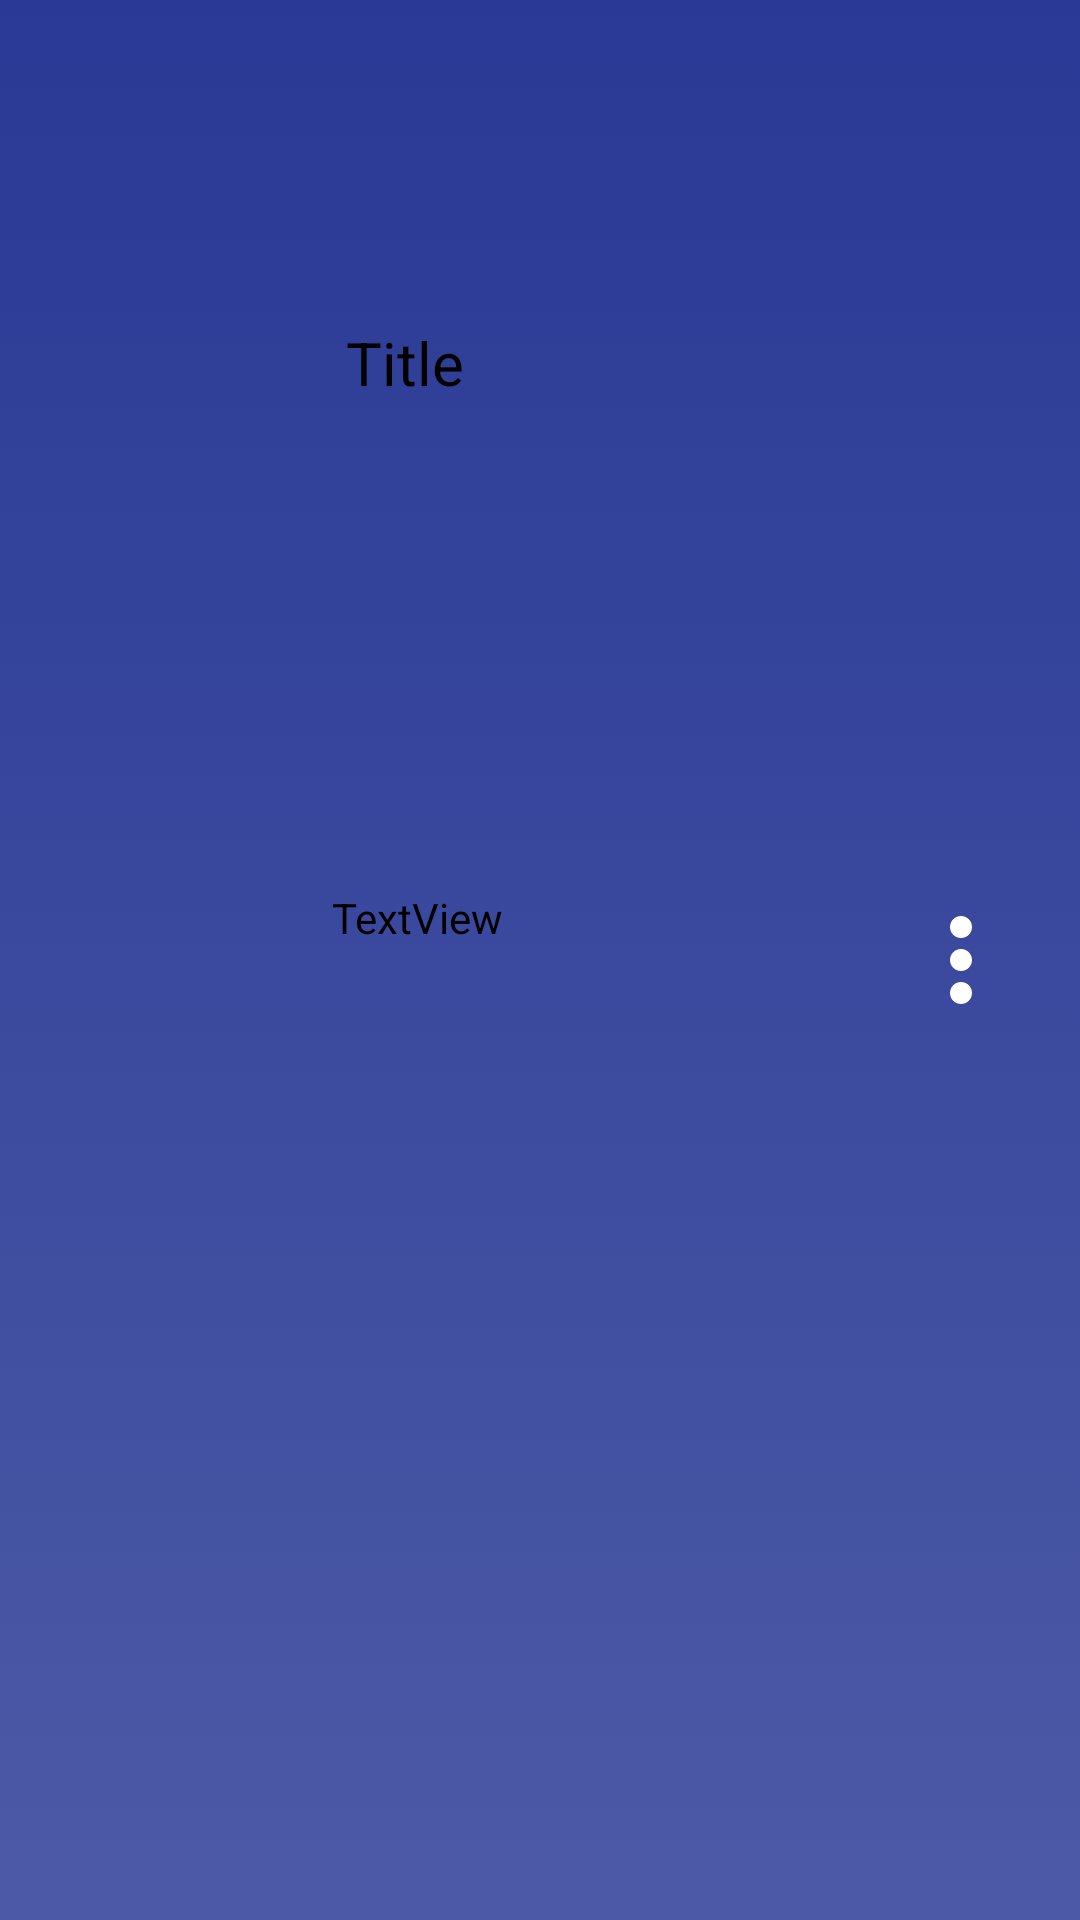

Icon click points for this 1080*1920 phone screenshot, format (x,y):
options vertical: (961,960)
